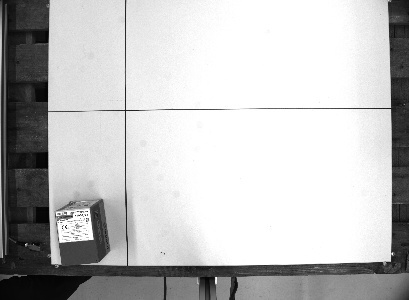b4: (51, 196, 110, 268)
